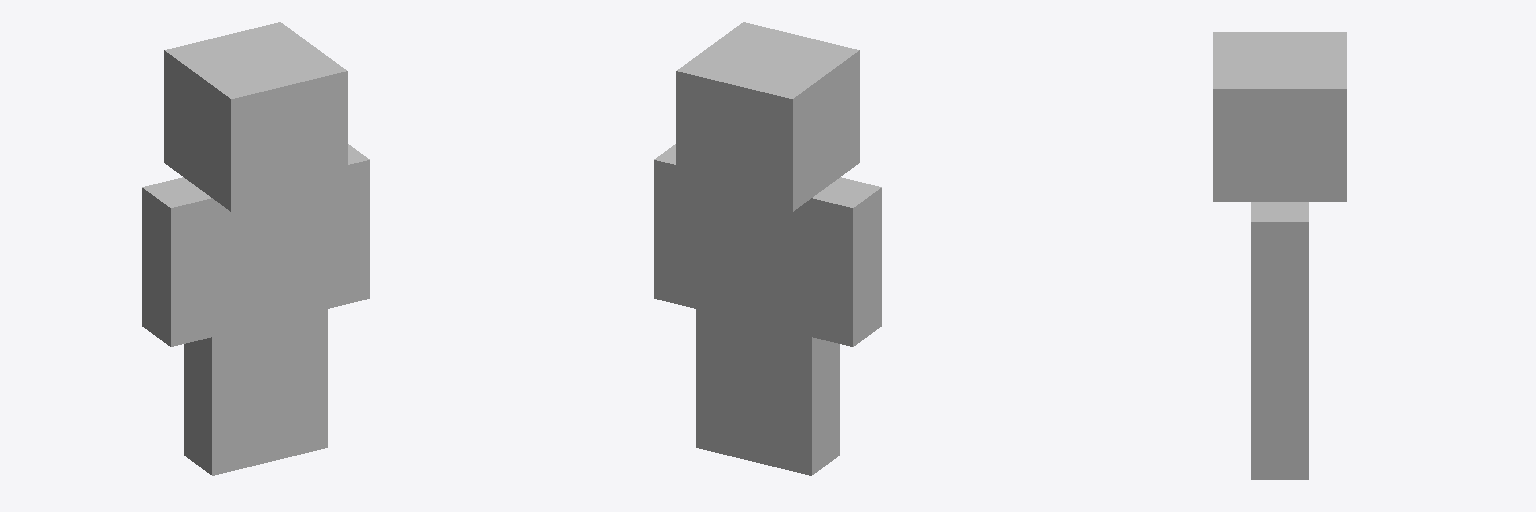
The model's file is boy_3.obj.
3 renders of one model, left to right at view 1: azimuth 30°, elevation 25°; view 2: azimuth 150°, elevation 25°; view 3: azimuth 270°, elevation 25°, orthographic.
Visible parts, largest first — view 1: cube; view 2: cube; view 3: cube.
Boxes of the visible parts, <box> form: cube: <box>142,22,369,475</box>; cube: <box>654,22,881,475</box>; cube: <box>1213,32,1346,479</box>.
Bounding box in the file's own units: 1.5 × 2.81 × 0.875.